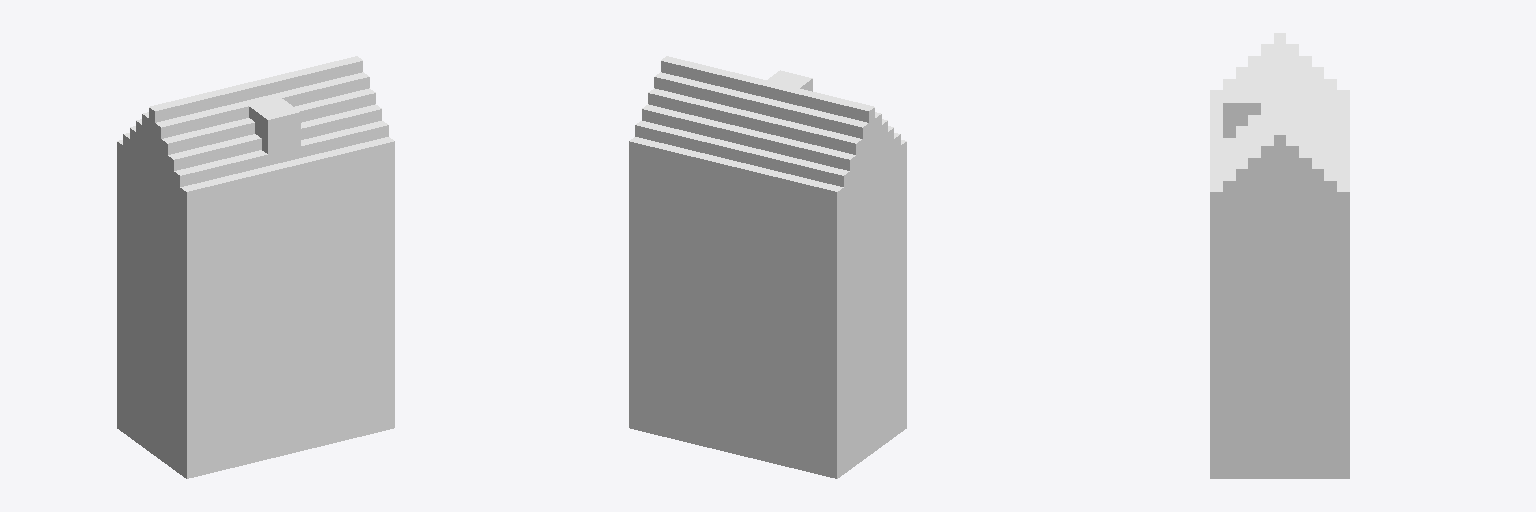
Rendered from Milk.obj.
The picture shows the model from 3 angles: view 1: azimuth 30°, elevation 25°; view 2: azimuth 150°, elevation 25°; view 3: azimuth 270°, elevation 25°; orthographic projection.
Parts seen in each view (by area): view 1: object 1; view 2: object 1; view 3: object 1.
Boxes of the visible parts, box(x1,y1,x2,y2) form: object 1: box(117, 56, 394, 478); object 1: box(629, 56, 906, 478); object 1: box(1210, 33, 1349, 478).
Size of the model in its own units: 1.9 by 3 by 1.1.